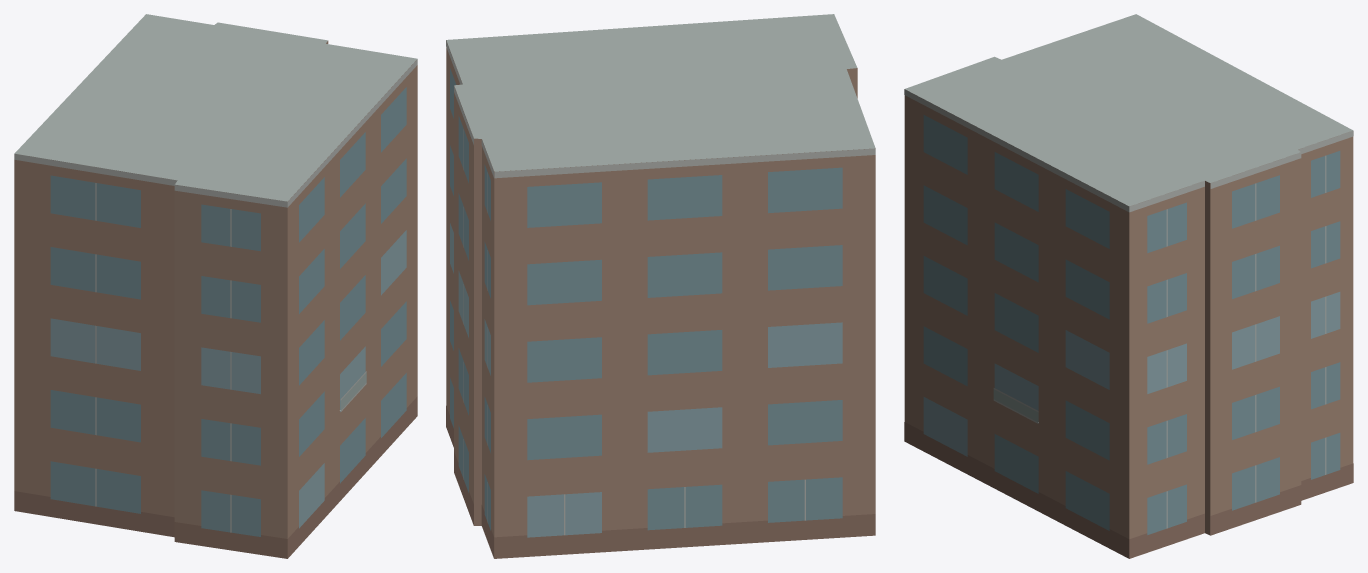
Rendered from survey-upis-32719364.glb.
3 renders of one model, left to right at view 1: azimuth 30°, elevation 25°; view 2: azimuth 150°, elevation 25°; view 3: azimuth 270°, elevation 25°, orthographic. The views are drawn at different scales.
Visible parts, largest first — view 1: survey-upis-32719364.tmp; view 2: survey-upis-32719364.tmp; view 3: survey-upis-32719364.tmp.
Part boxes in pixels (left/top/right/bottom): survey-upis-32719364.tmp: left=14, top=14, right=417, bottom=558; survey-upis-32719364.tmp: left=446, top=14, right=875, bottom=558; survey-upis-32719364.tmp: left=904, top=14, right=1353, bottom=558.
Bounding box in the file's own units: 16.87 × 14.4 × 16.63.
